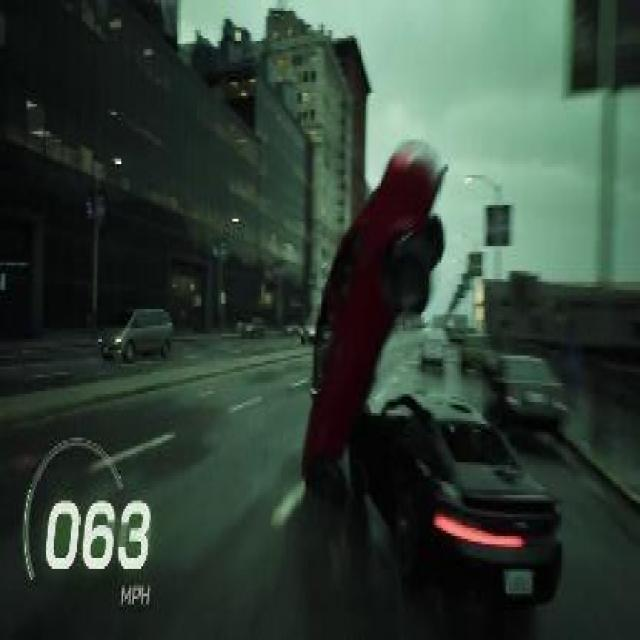accident: (297, 123, 565, 640)
